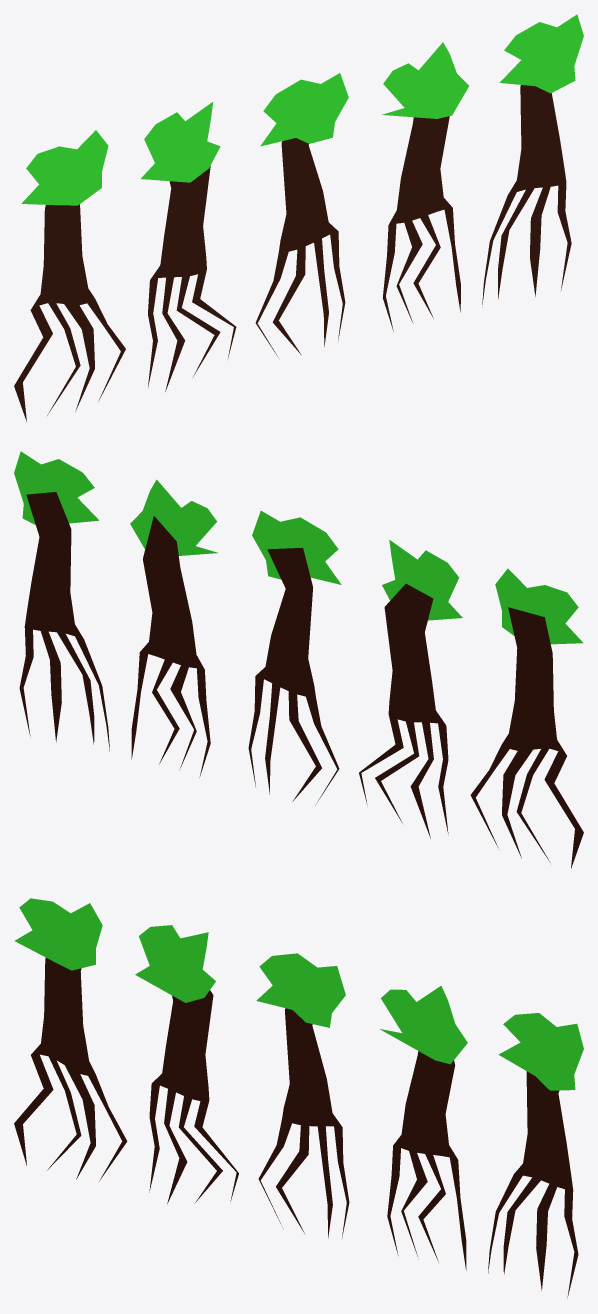
The model's file is trees.FBX.
3 views of the same model, one above another, from view 1: azimuth 30°, elevation 25°; view 2: azimuth 150°, elevation 25°; view 3: azimuth 330°, elevation 25° (orthographic).
Parts seen in each view (by area): view 1: Plane; view 2: Plane; view 3: Plane.
Boxes of the visible parts, x1,y1,x2,y2 form: Plane: [14, 14, 583, 421]; Plane: [14, 451, 583, 868]; Plane: [14, 898, 583, 1298].
Bounding box in the file's own units: 934 × 452 × 9.84.
